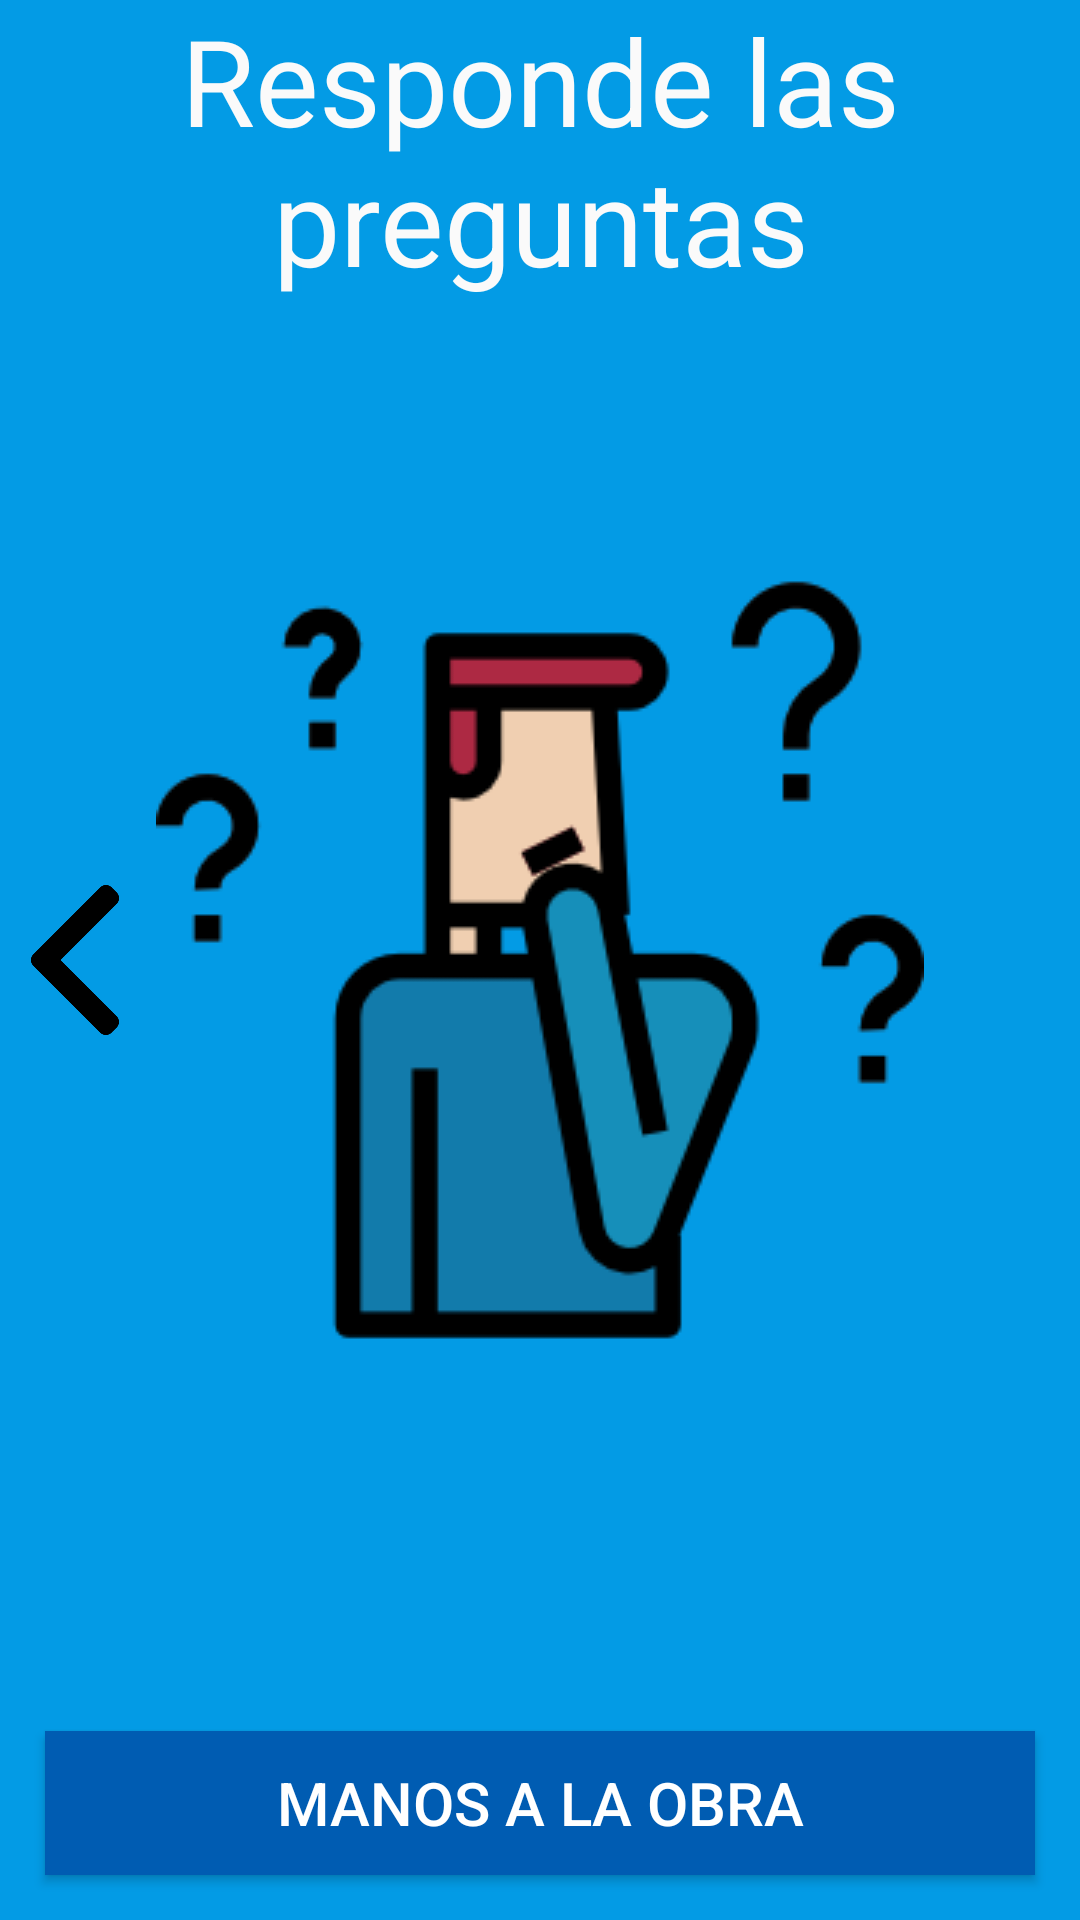

Icon bounding boxes for this 1080 × 1920 phone screenshot, format (x1, y1, x2, y2):
flechaizquierda: (31, 885, 119, 1035)
